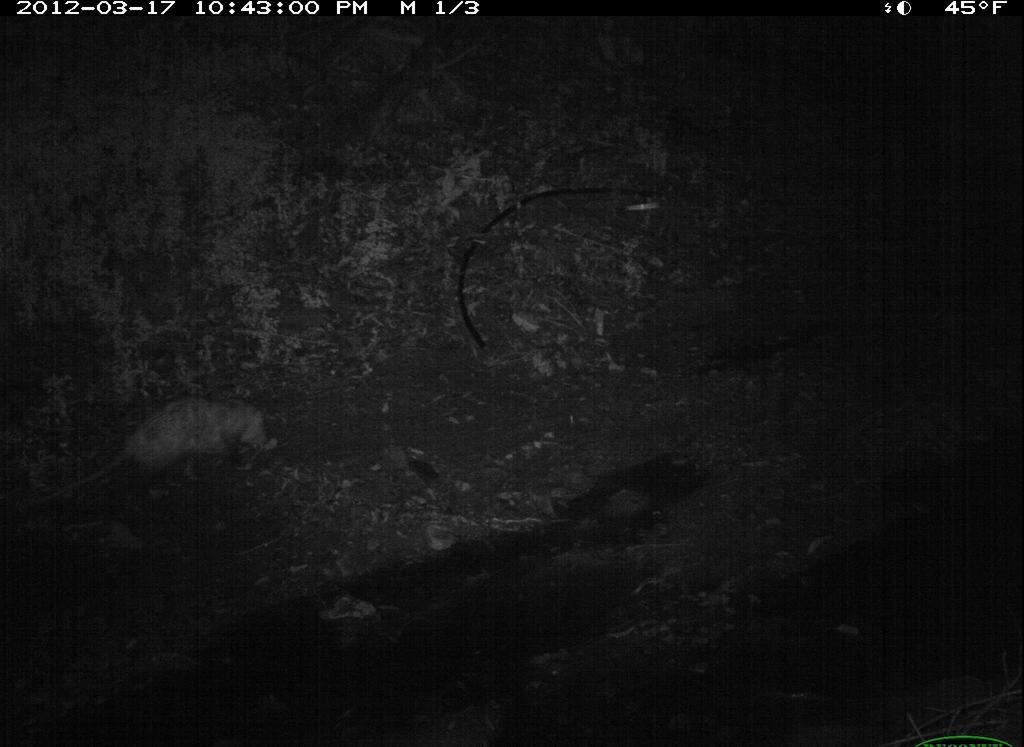opossum: (34, 396, 286, 527)
